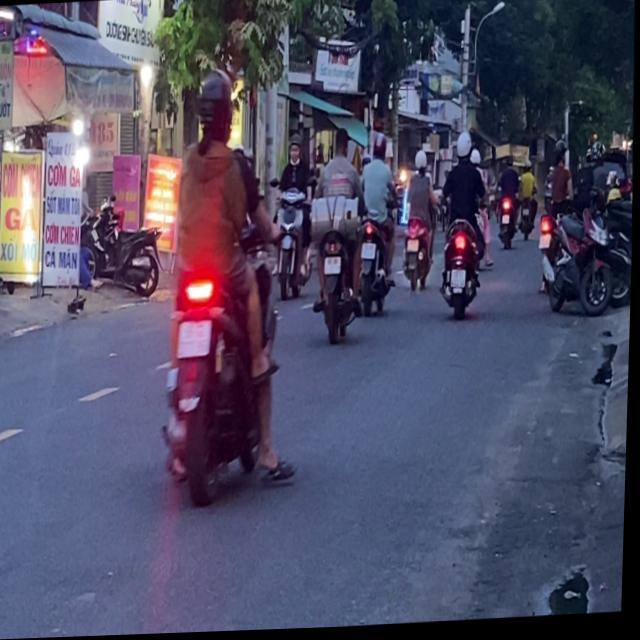helmet: (194, 70, 237, 146), (455, 134, 473, 163), (287, 134, 303, 165), (370, 133, 387, 162)
licenseplate: (154, 63, 295, 512), (306, 125, 365, 345), (436, 132, 493, 323), (354, 130, 401, 318), (268, 133, 318, 303)
motorcyclist: (333, 128, 350, 163)
nohelmet: (178, 321, 213, 359), (325, 259, 342, 275), (452, 272, 466, 291), (362, 245, 377, 261)
